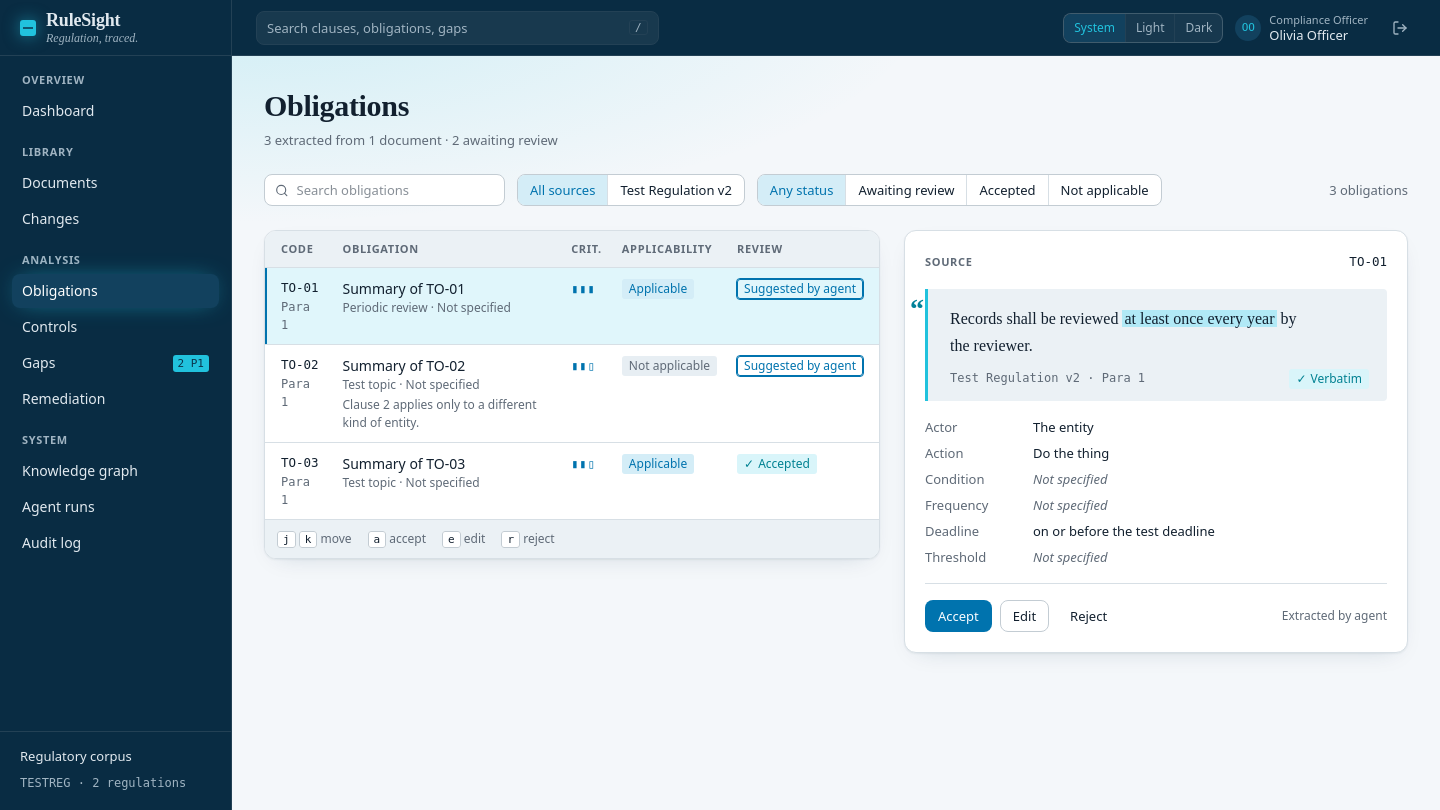
Test: Obligations review › accepts a suggested obligation and updates its status
Click the button "Accept" at [958, 616], box left=925, top=600, right=992, bottom=632
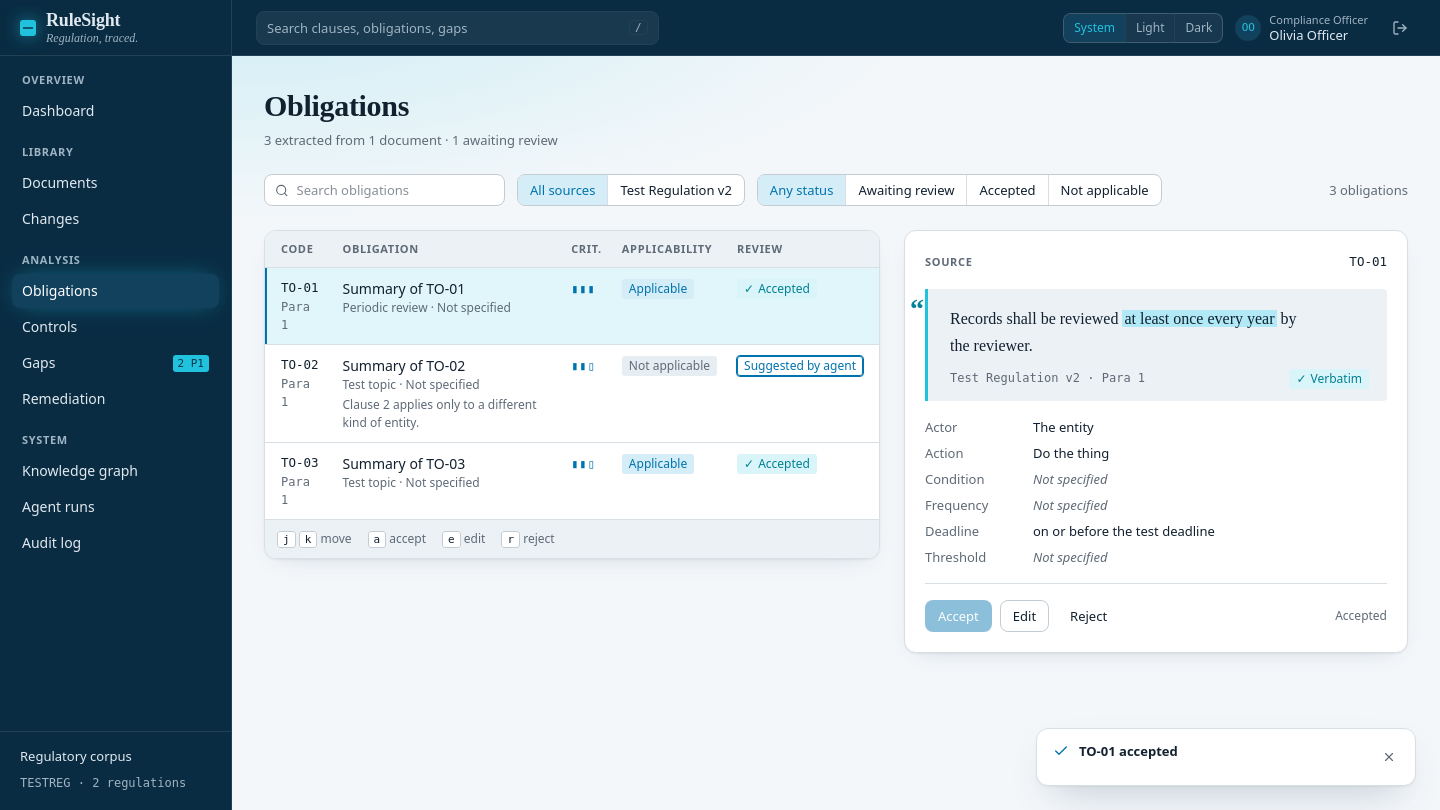
Expected: the text "TO-01" below "Code" is shown, left=281, top=280, right=319, bottom=295
Now the text "TO-01 accepted" is shown, box left=1079, top=742, right=1178, bottom=760
Now the button "Accept" is disabled, box left=925, top=600, right=992, bottom=632
